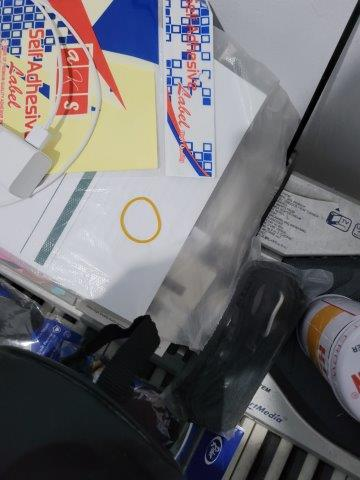karet: (120, 197, 163, 243)
